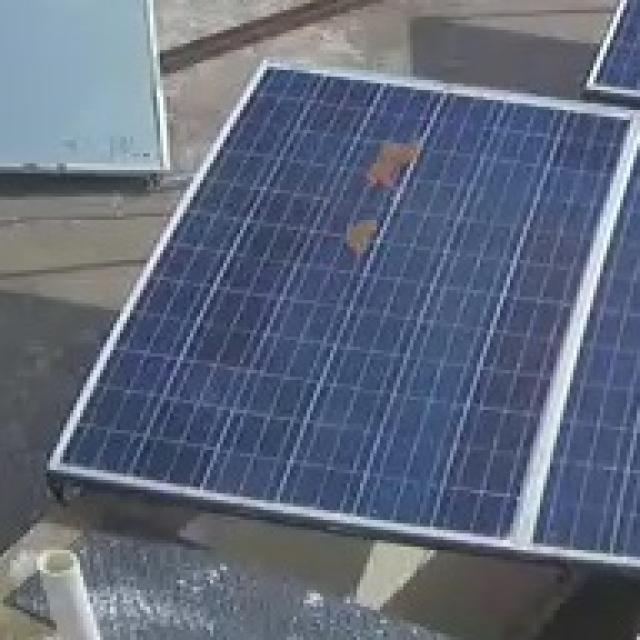Anomaly Solar Panel: (56, 63, 637, 551)
Surface Contaminant: (363, 128, 426, 204), (337, 213, 388, 264)
